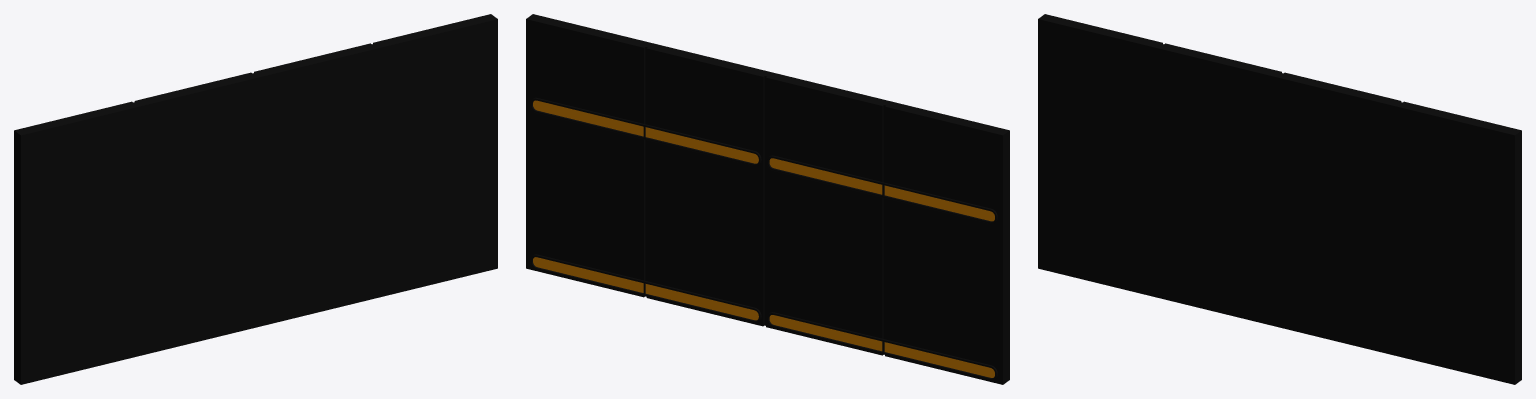
The model's file is wall_external01.fbx.
3 views of the same model, side by side, from view 1: azimuth 30°, elevation 25°; view 2: azimuth 150°, elevation 25°; view 3: azimuth 330°, elevation 25° (orthographic).
Parts seen in each view (by area): view 1: Box001; view 2: Box001; view 3: Box001.
Part boxes in pixels (left/top/right/bottom): Box001: left=14, top=14, right=497, bottom=384; Box001: left=526, top=14, right=1009, bottom=384; Box001: left=1038, top=14, right=1521, bottom=384.
Bounding box in the file's own units: 40 × 1.14 × 20.
